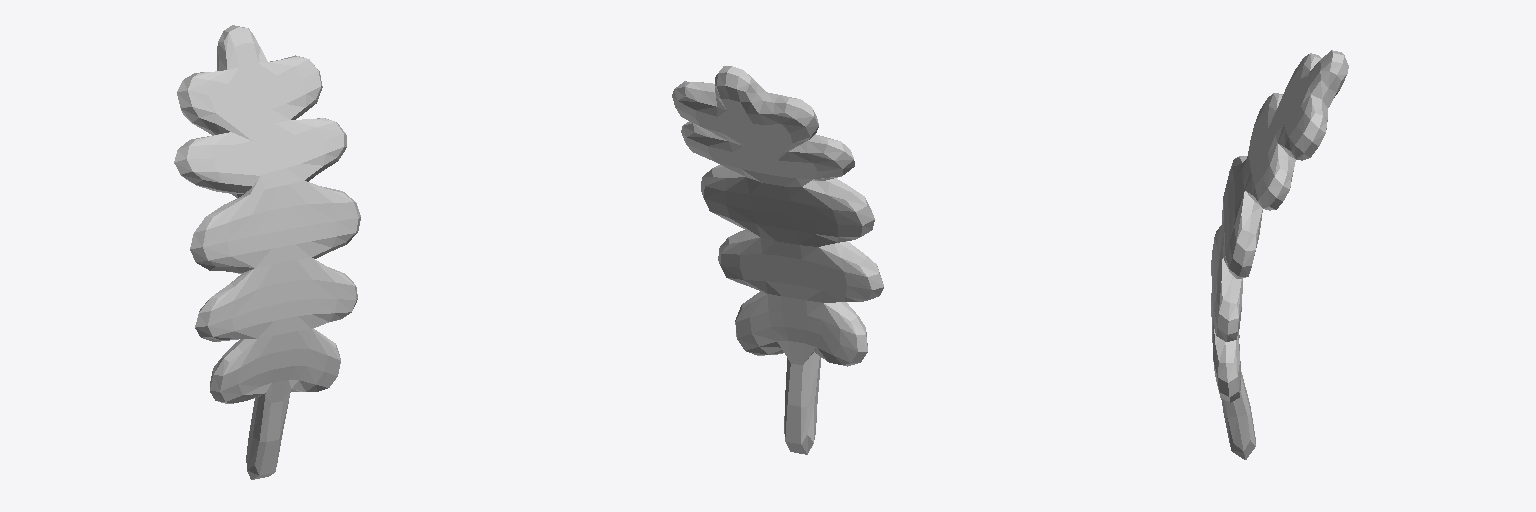
File: big_Leaf.obj
3 renders of one model, left to right at view 1: azimuth 30°, elevation 25°; view 2: azimuth 150°, elevation 25°; view 3: azimuth 270°, elevation 25°, orthographic.
Parts seen in each view (by area): view 1: pCube5; view 2: pCube5; view 3: pCube5.
Part boxes in pixels (bbox=[...]): pCube5: bbox=[174, 25, 360, 479]; pCube5: bbox=[672, 66, 883, 454]; pCube5: bbox=[1211, 50, 1348, 459].
Bounding box in the file's own units: 13.17 × 29.37 × 8.87.